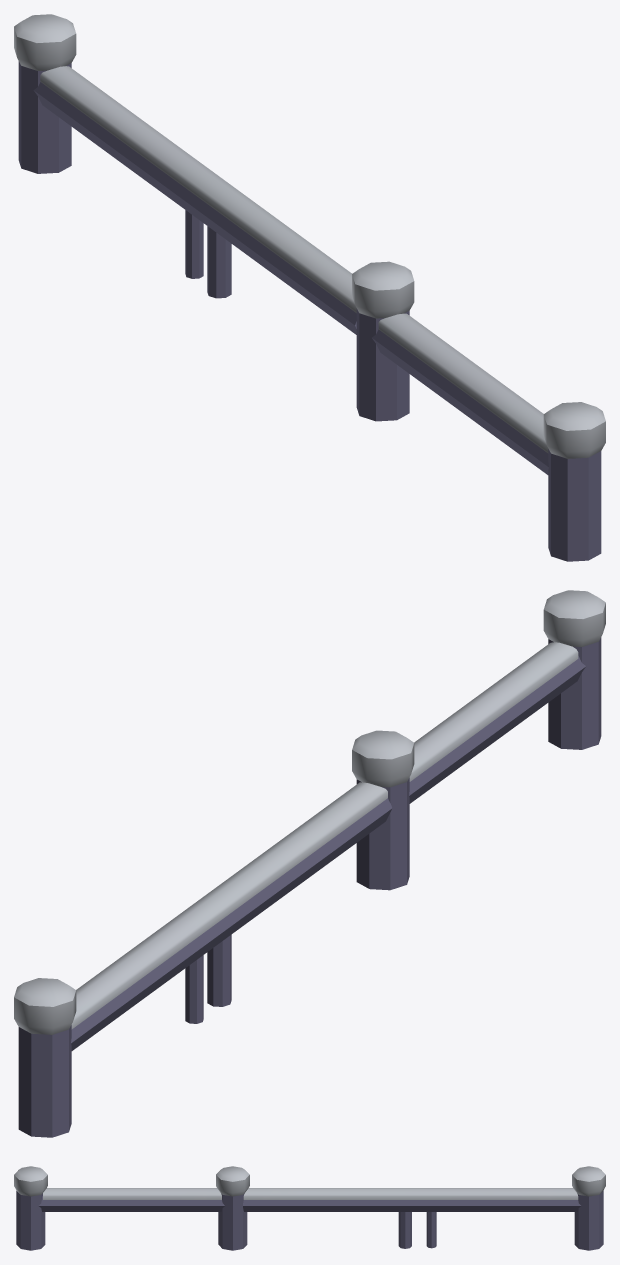
File: RPGBattle_BridgeFloor10_fence3.fbx
3 renders of one model, top to bottom at view 1: azimuth 30°, elevation 25°; view 2: azimuth 150°, elevation 25°; view 3: azimuth 270°, elevation 25°, orthographic. The views are drawn at different scales.
Parts seen in each view (by area): view 1: RPGBattle_BridgeFloor10_fence3; view 2: RPGBattle_BridgeFloor10_fence3; view 3: RPGBattle_BridgeFloor10_fence3.
Boxes of the visible parts, box(x1,y1,x2,y2) form: RPGBattle_BridgeFloor10_fence3: box(14, 14, 605, 561); RPGBattle_BridgeFloor10_fence3: box(14, 590, 605, 1137); RPGBattle_BridgeFloor10_fence3: box(14, 1166, 605, 1250).
Size of the model in its own units: 75.13 by 182 by 1311.
